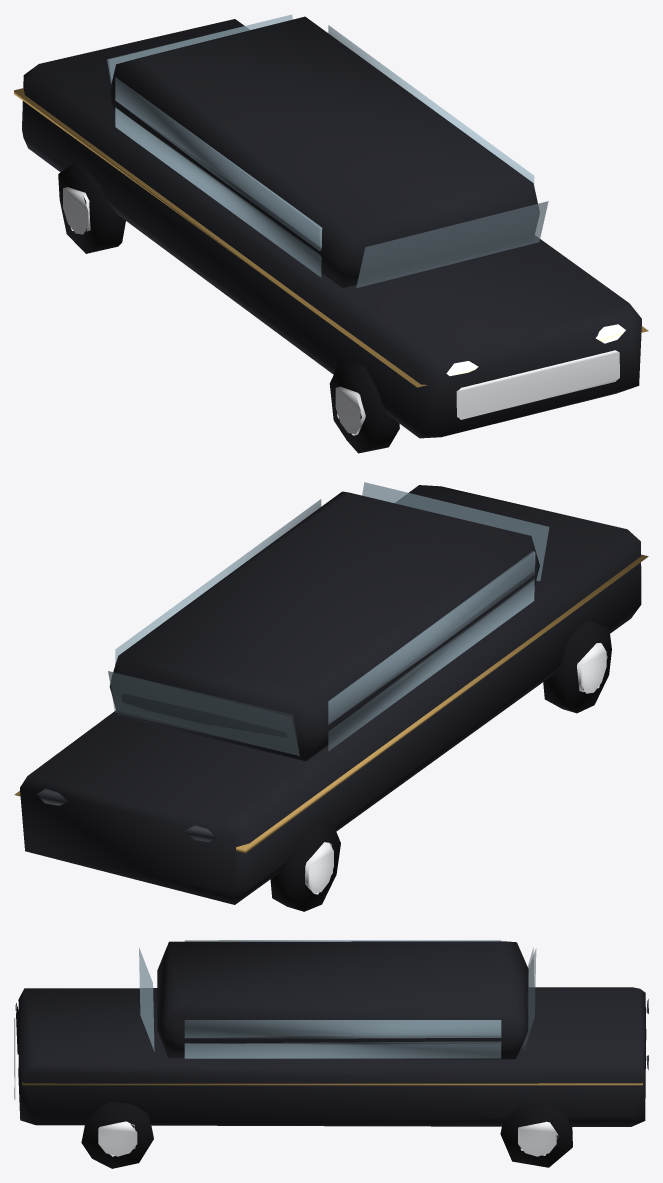
Rendered from lod_limo_black.glb.
3 renders of one model, top to bottom at view 1: azimuth 30°, elevation 25°; view 2: azimuth 150°, elevation 25°; view 3: azimuth 270°, elevation 25°, orthographic. The views are drawn at different scales.
Visible parts, largest first — view 1: limo_black; view 2: limo_black; view 3: limo_black.
Part boxes in pixels (box(x1,y1,x2,y2)): limo_black: box(14, 14, 648, 453); limo_black: box(14, 482, 648, 911); limo_black: box(14, 940, 648, 1168).
Bounding box in the file's own units: 2.13 × 1.66 × 6.21.
